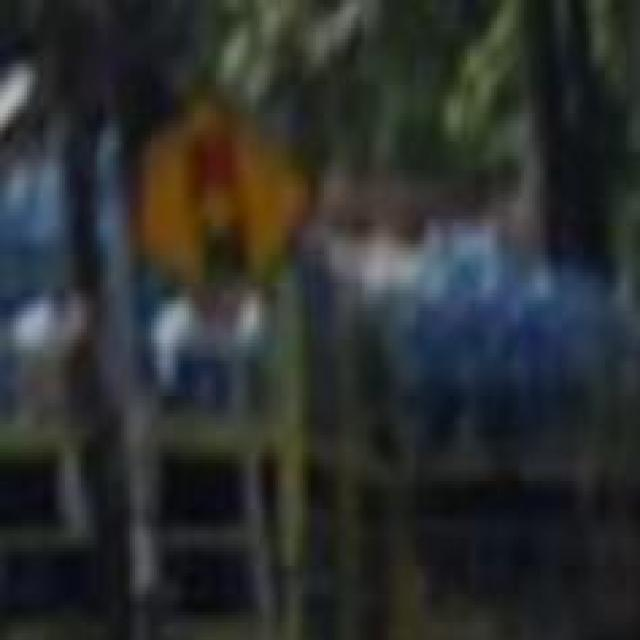traffic sign: (146, 96, 306, 315)
